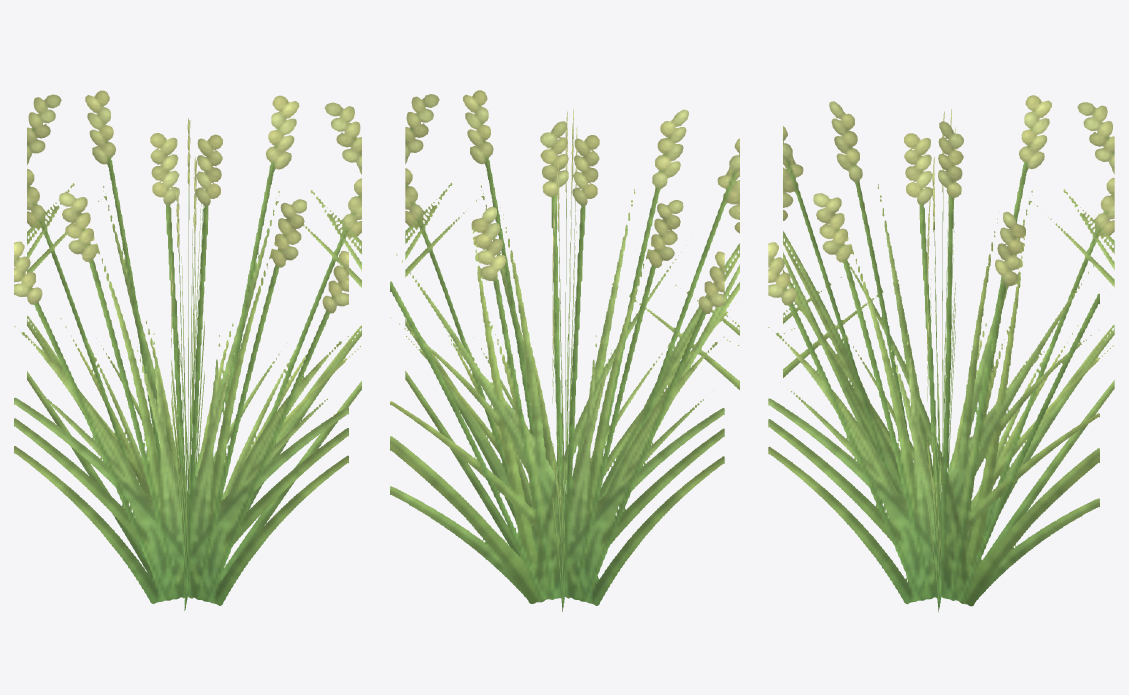
The model's file is crop_wheat_2.glb.
The picture shows the model from 3 angles, left to right: view 1: azimuth 30°, elevation 25°; view 2: azimuth 150°, elevation 25°; view 3: azimuth 270°, elevation 25°; orthographic projection.
Visible parts, largest first — view 1: crop_wheat_2; view 2: crop_wheat_2; view 3: crop_wheat_2.
Boxes of the visible parts, x1,y1,x2,y2 form: crop_wheat_2: [14, 90, 361, 610]; crop_wheat_2: [390, 90, 739, 611]; crop_wheat_2: [768, 95, 1114, 612].
Size of the model in its own units: 0.4987 by 0.72 by 0.4479.
Materials: 1 (1 with a texture image).
